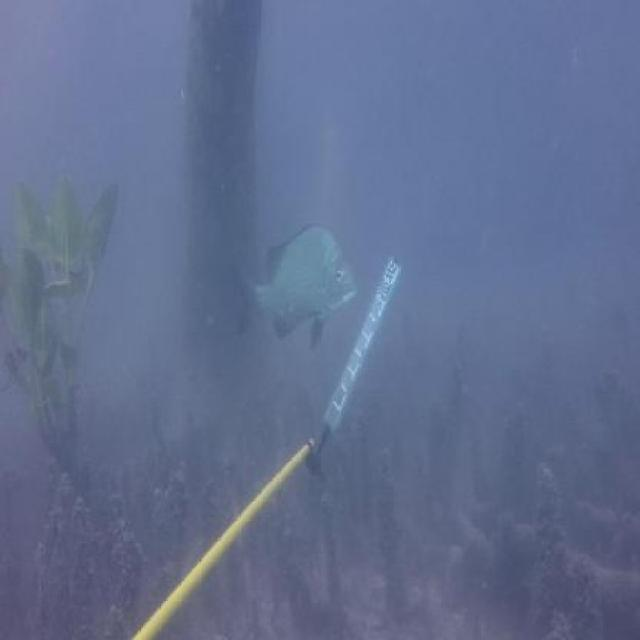acanthopagrus_palmaris: (229, 219, 360, 347)
